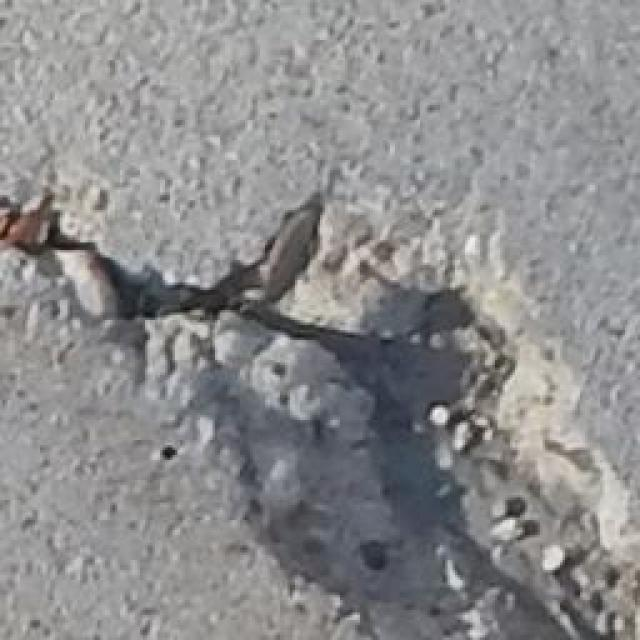concrete-crack: (0, 183, 640, 640)
